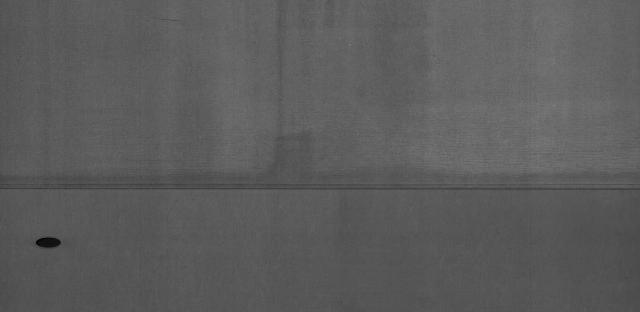punching_hole: (32, 233, 65, 253)
welding_line: (2, 176, 637, 200)
